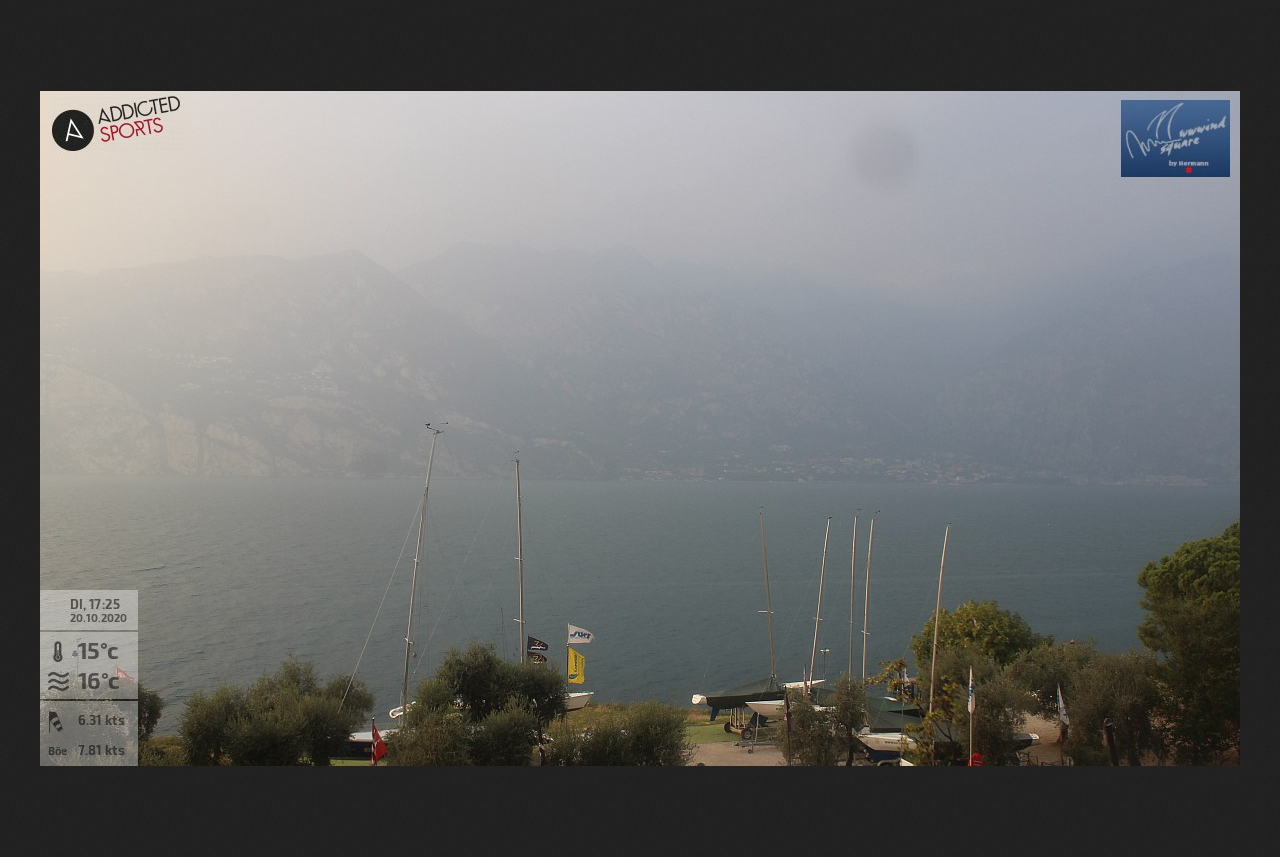no: (961, 662, 979, 717)
yes: (563, 646, 591, 687), (563, 617, 597, 645), (520, 649, 554, 669), (522, 633, 552, 653)
